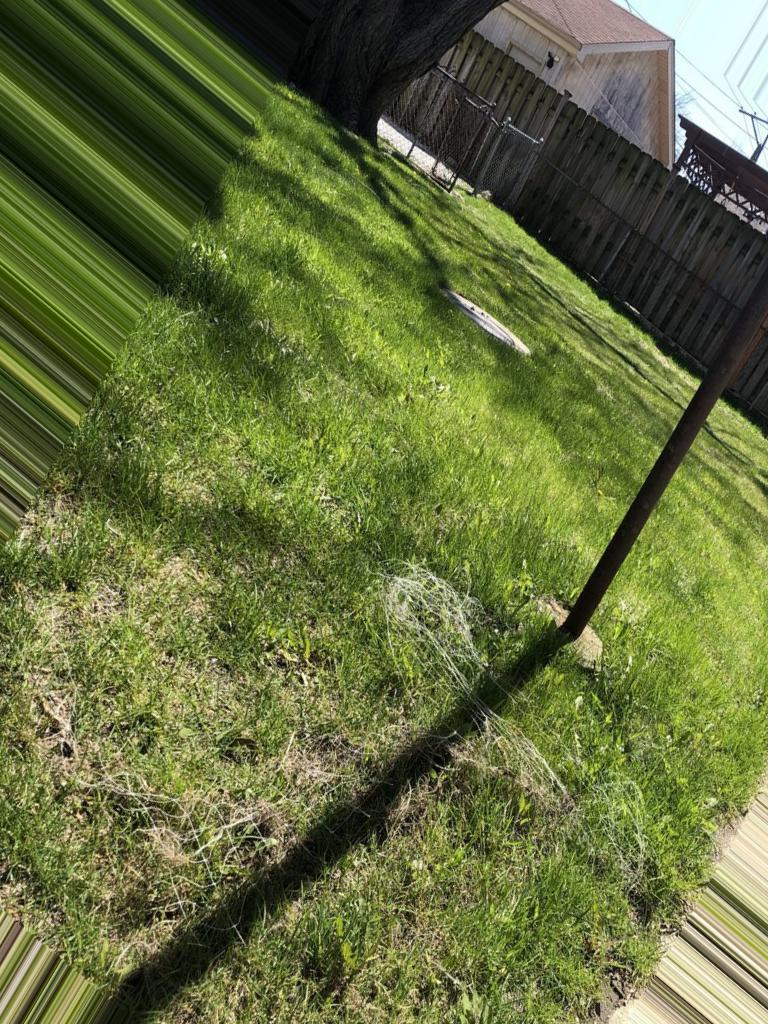patch: (36, 563, 360, 945)
